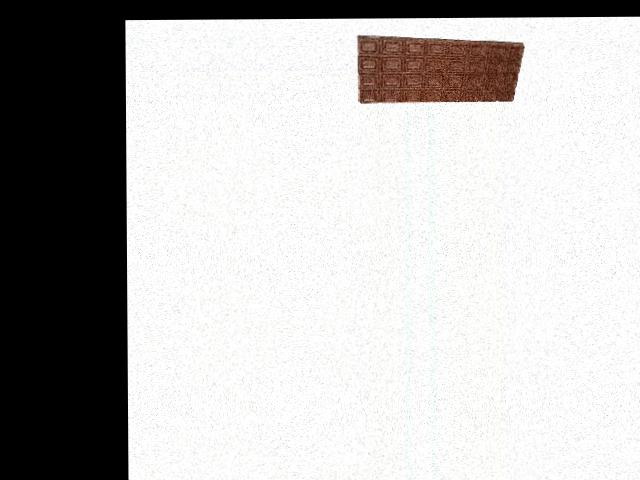chocolate: (355, 36, 526, 103)
